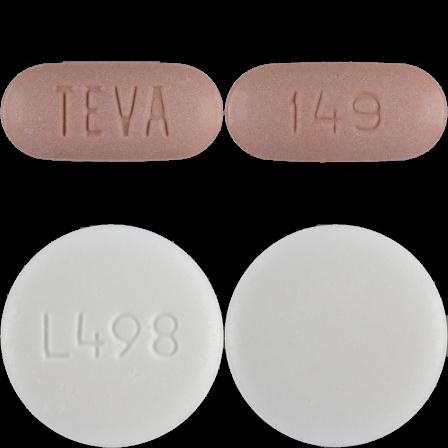0615-7709: (0, 0, 224, 224)
